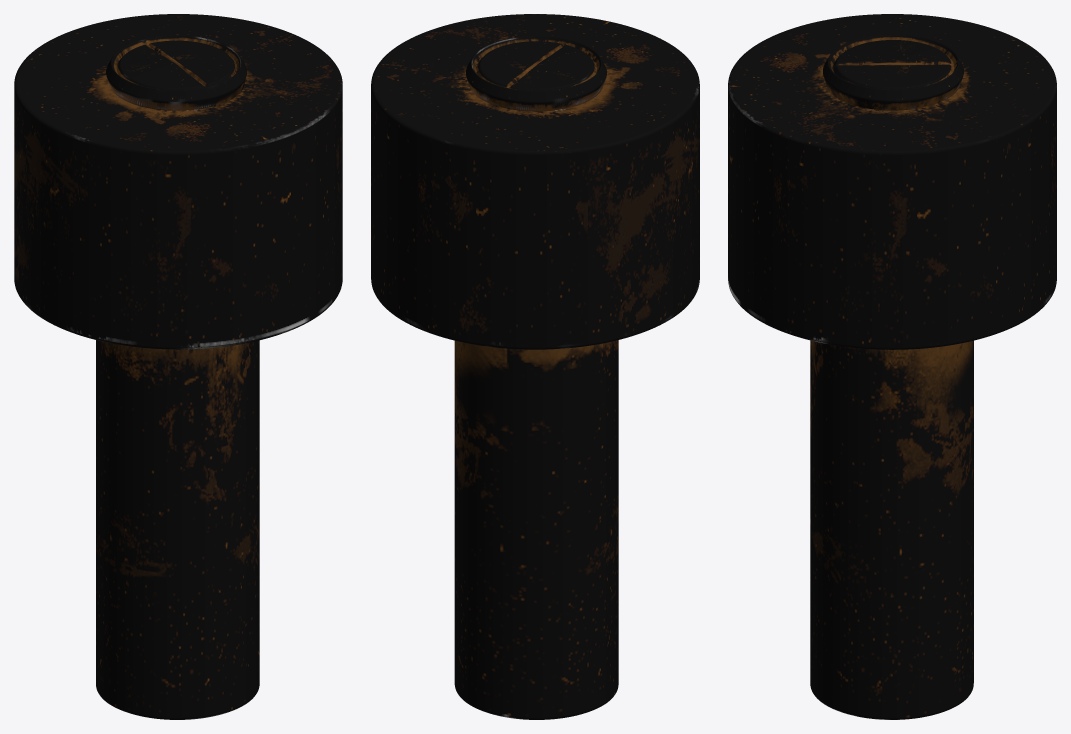
File: luomu.FBX
3 renders of one model, left to right at view 1: azimuth 30°, elevation 25°; view 2: azimuth 150°, elevation 25°; view 3: azimuth 270°, elevation 25°, orthographic.
Visible parts, largest first — view 1: 对象002; view 2: 对象002; view 3: 对象002.
Part boxes in pixels (x1,y1,x2,y2): 对象002: (14, 14, 342, 719); 对象002: (371, 14, 699, 719); 对象002: (728, 14, 1056, 719).
Bounding box in the file's own units: 3 × 6.28 × 3.
